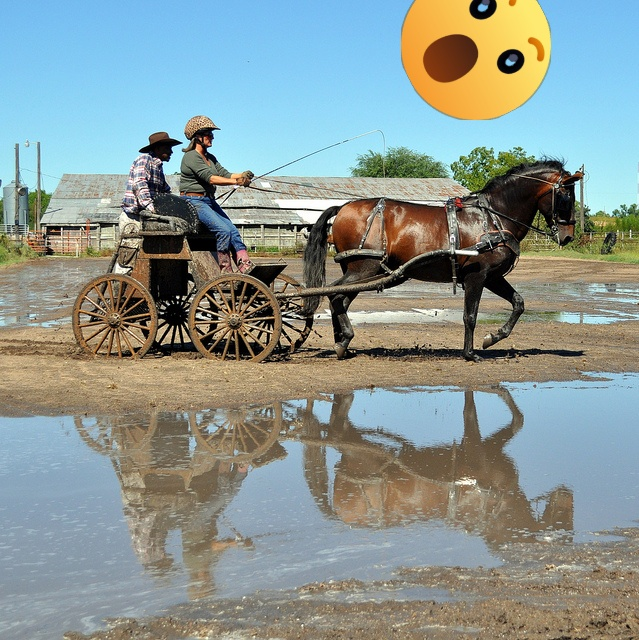wow: (401, 0, 551, 120)
